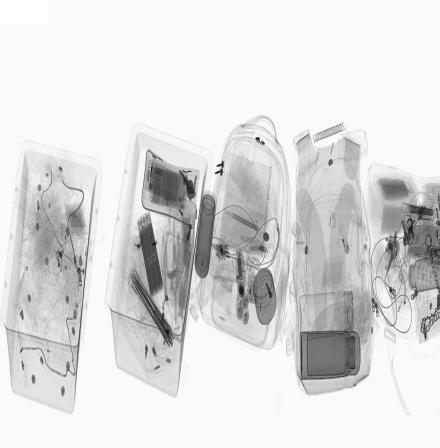Powerbank: (135, 209, 165, 298)
